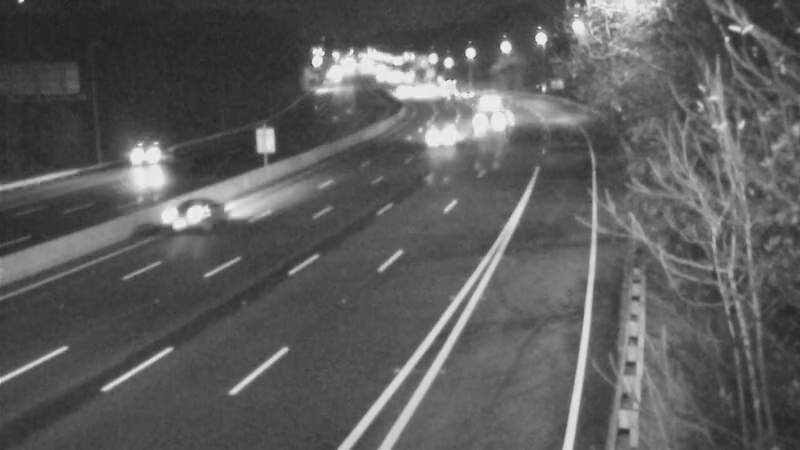vehicle: (133, 173, 213, 253), (94, 126, 174, 206), (374, 65, 424, 115), (426, 65, 476, 115), (459, 81, 509, 131), (464, 97, 514, 147), (410, 110, 460, 160)
